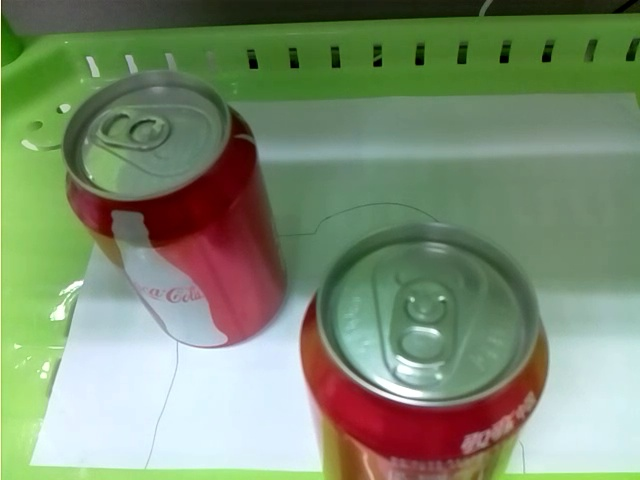cocacola: (296, 221, 551, 479), (59, 69, 288, 351)
